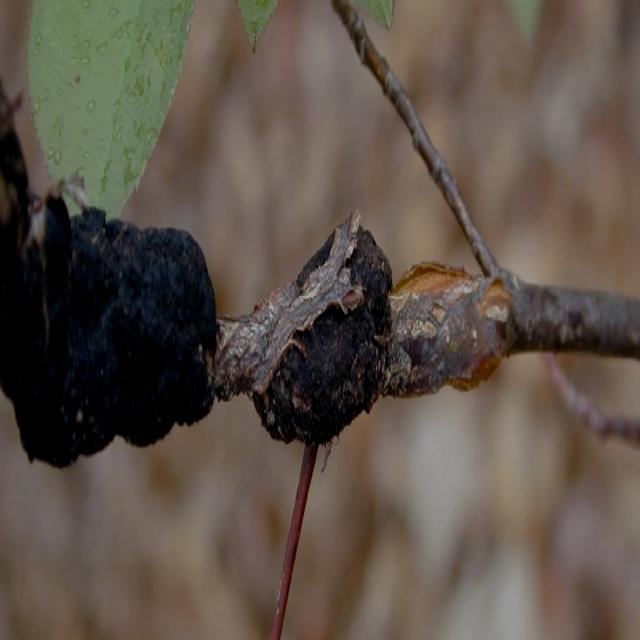Black_knot: (1, 104, 219, 471), (215, 207, 394, 451)
